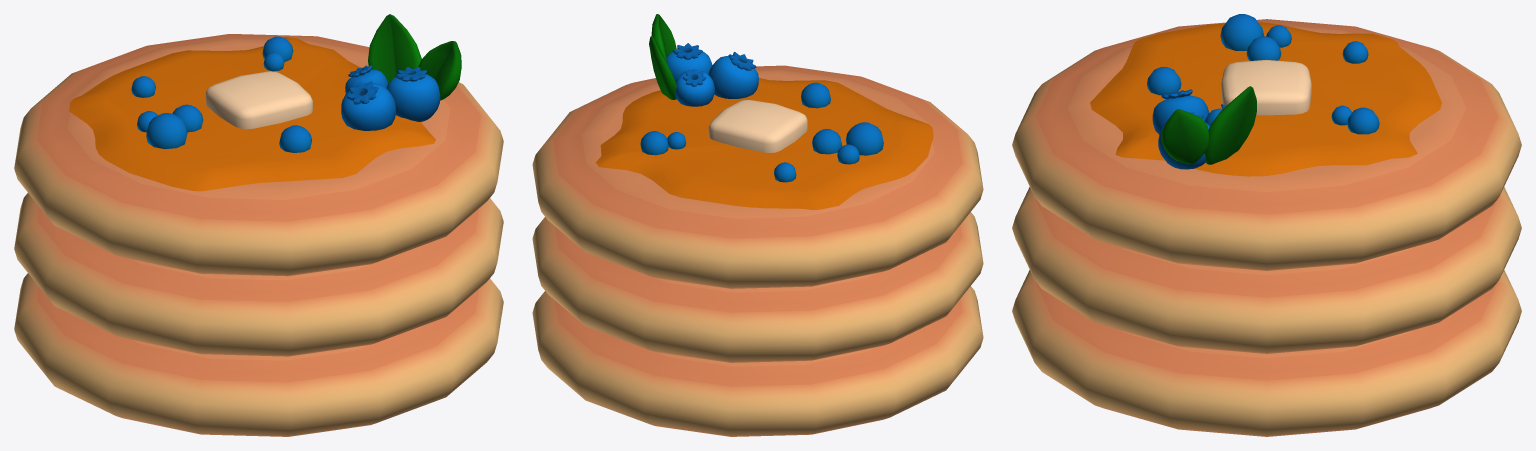
File: Pancake_V1_03.fbx
3 renders of one model, left to right at view 1: azimuth 30°, elevation 25°; view 2: azimuth 150°, elevation 25°; view 3: azimuth 270°, elevation 25°, orthographic. The views are drawn at different scales.
Visible parts, largest first — view 1: Pancake_V1_03; view 2: Pancake_V1_03; view 3: Pancake_V1_03.
Part boxes in pixels (box(x1,y1,x2,y2)): Pancake_V1_03: box(14, 14, 503, 436); Pancake_V1_03: box(532, 14, 983, 436); Pancake_V1_03: box(1012, 14, 1521, 436).
Bounding box in the file's own units: 64.15 × 45.55 × 64.15.
